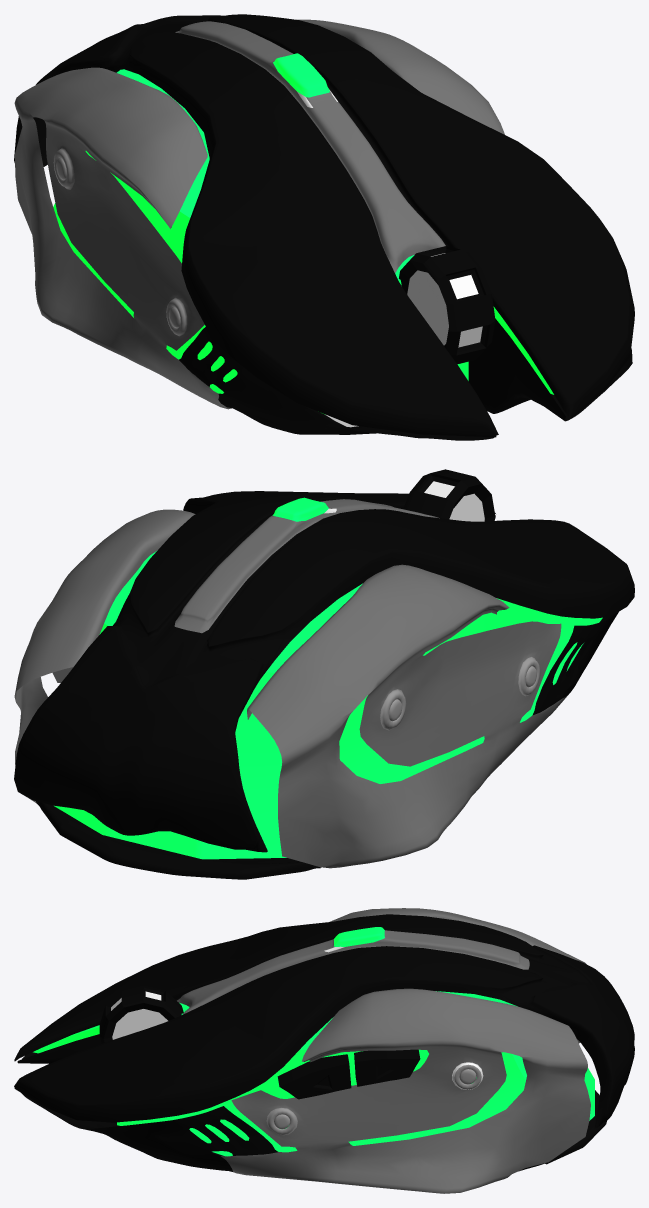
Rendered from mouse.glb.
3 views of the same model, one above another, from view 1: azimuth 30°, elevation 25°; view 2: azimuth 150°, elevation 25°; view 3: azimuth 270°, elevation 25° (orthographic). The views are drawn at different scales.
Parts seen in each view (by area): view 1: Gaming_Mouse1:polySurface5, Gaming_Mouse1:polySurface5_Gaming_Mouse1:Mouse_Silver_Textur; view 2: Gaming_Mouse1:polySurface5, Gaming_Mouse1:polySurface5_Gaming_Mouse1:Mouse_Silver_Textur; view 3: Gaming_Mouse1:polySurface5, Gaming_Mouse1:polySurface5_Gaming_Mouse1:Mouse_Silver_Textur.
Boxes of the visible parts, left/top/right/bottom form: Gaming_Mouse1:polySurface5: left=14, top=14, right=634, bottom=440; Gaming_Mouse1:polySurface5_Gaming_Mouse1:Mouse_Silver_Textur: left=14, top=19, right=504, bottom=409; Gaming_Mouse1:polySurface5: left=14, top=469, right=634, bottom=879; Gaming_Mouse1:polySurface5_Gaming_Mouse1:Mouse_Silver_Textur: left=14, top=499, right=570, bottom=868; Gaming_Mouse1:polySurface5: left=14, top=914, right=634, bottom=1171; Gaming_Mouse1:polySurface5_Gaming_Mouse1:Mouse_Silver_Textur: left=177, top=908, right=590, bottom=1193.
Bounding box in the file's own units: 0.1373 × 0.0825 × 0.2453.
